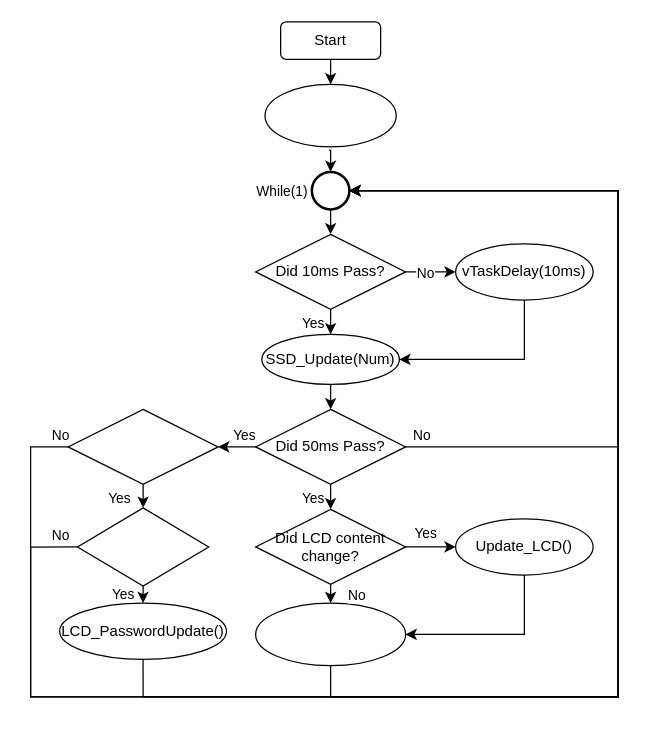
Image size: 650x729. Some labels were removed from this diagram. The box of each missing label's shape, as (x1, y1, x2, y2) in pixels:
Did user add/removed a digit?: (76, 507, 209, 586)
is CM in password mode?: (67, 408, 218, 484)
LCD_Init() SSD_Init(): (264, 83, 396, 147)
LCD_Shift(): (254, 602, 406, 666)
